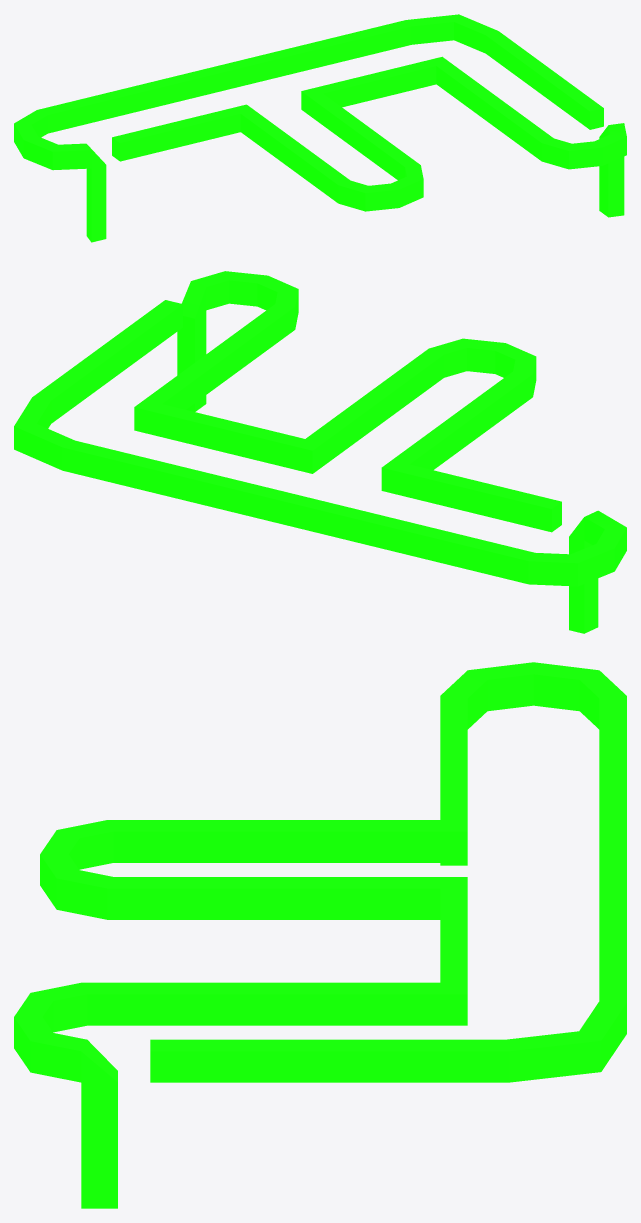
File: Alphabet_3D_04_F.FBX
3 renders of one model, top to bottom at view 1: azimuth 30°, elevation 25°; view 2: azimuth 150°, elevation 25°; view 3: azimuth 270°, elevation 25°, orthographic. The views are drawn at different scales.
Parts seen in each view (by area): view 1: Alphabet_3D_04_F; view 2: Alphabet_3D_04_F; view 3: Alphabet_3D_04_F.
Part boxes in pixels (box(x1,y1,x2,y2)): Alphabet_3D_04_F: box(14, 14, 626, 242); Alphabet_3D_04_F: box(14, 271, 626, 633); Alphabet_3D_04_F: box(14, 662, 626, 1208).
Bounding box in the file's own units: 66.94 × 12.63 × 44.58.
